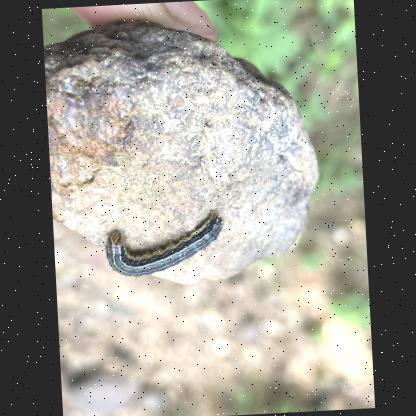Fall Armyworm Larvae: (98, 206, 230, 287)
